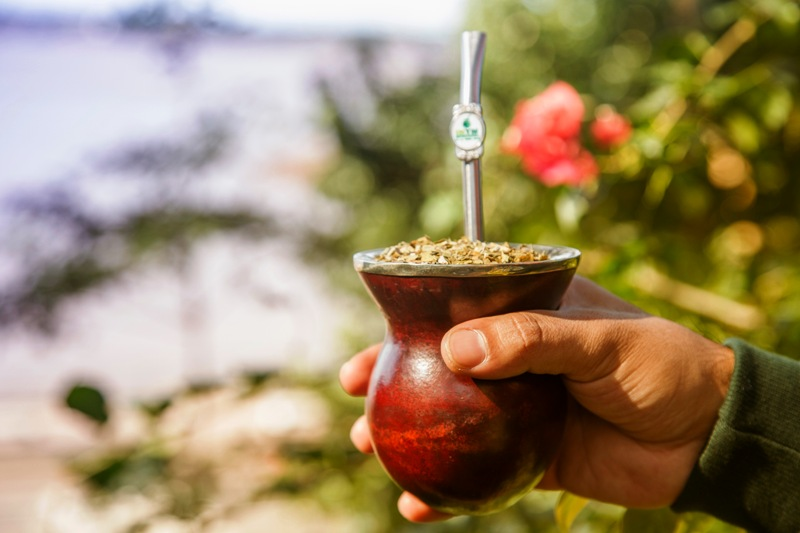guampa: (313, 6, 570, 508)
